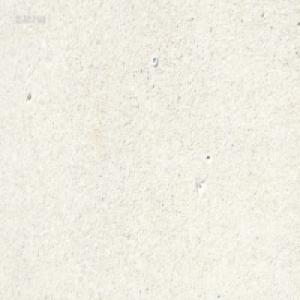Washer: (151, 56, 157, 67)
